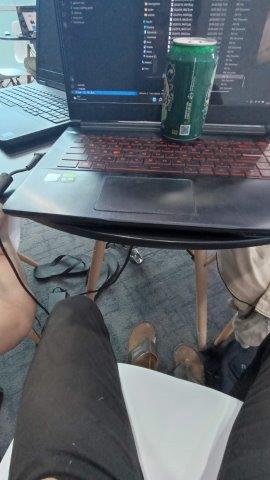kaleng: (161, 37, 218, 141)
